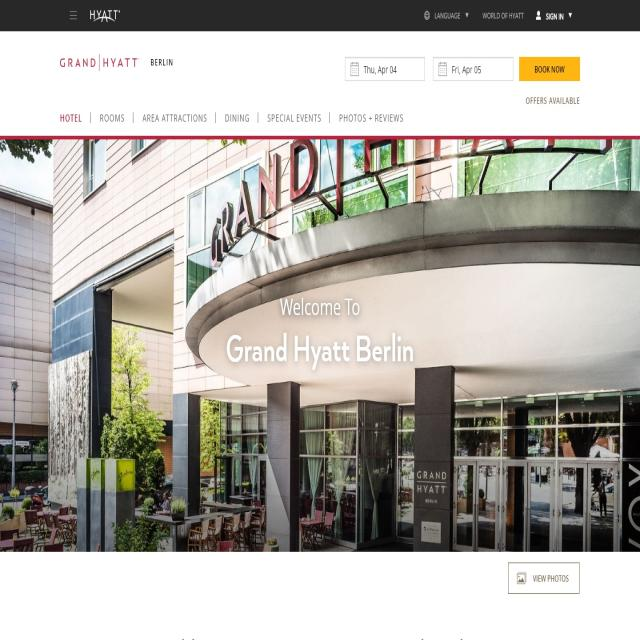button: (509, 561, 582, 593), (135, 109, 212, 132), (332, 109, 407, 132), (520, 56, 581, 82), (262, 108, 328, 130), (418, 5, 471, 29), (479, 8, 528, 28), (91, 107, 132, 130), (218, 107, 256, 130), (535, 6, 575, 26), (54, 108, 90, 129), (64, 3, 78, 24), (278, 293, 284, 305)
field: (432, 54, 512, 82), (346, 56, 425, 84)
heading: (224, 291, 418, 374), (57, 51, 140, 73)
image: (0, 137, 639, 552)
label: (363, 60, 398, 80), (451, 62, 486, 78)
text: (89, 6, 123, 25), (150, 56, 173, 68)
